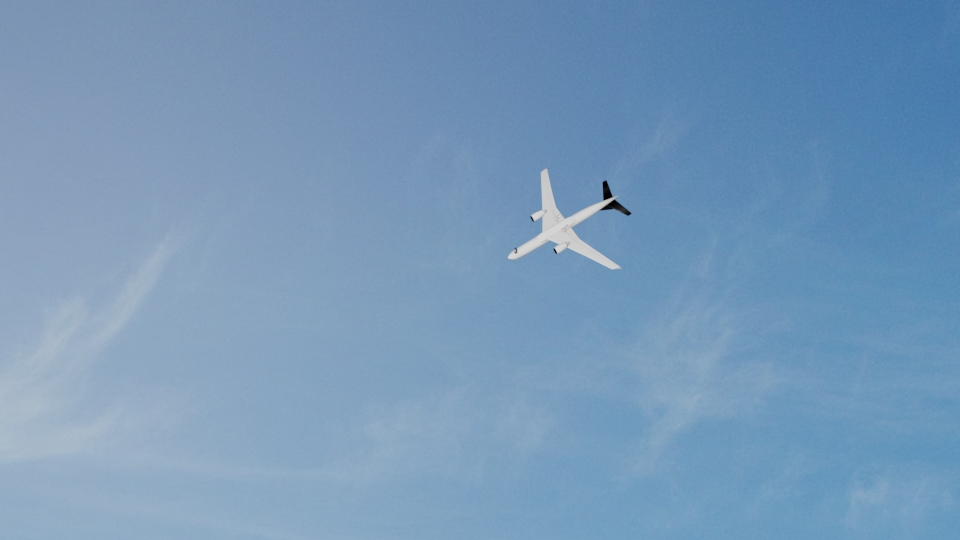plane: (503, 166, 631, 277)
